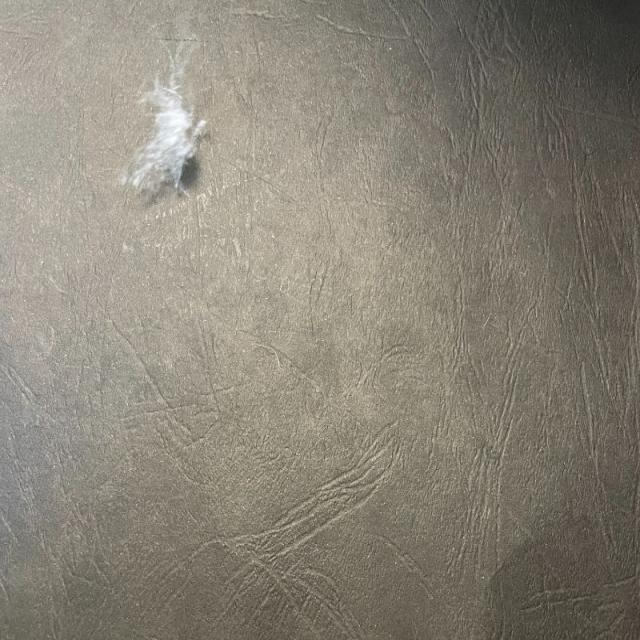feather: (132, 63, 200, 195)
